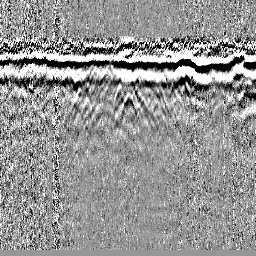cavity: (116, 92, 139, 126)
